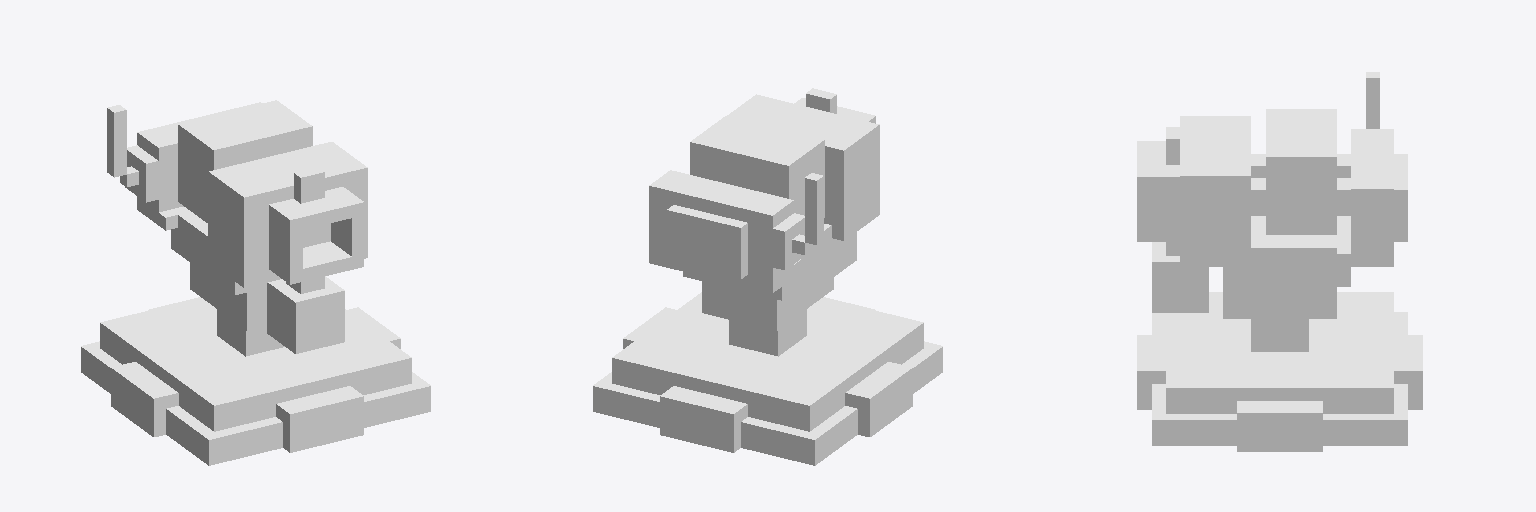
The model's file is Turret(Tower_Defens)-5.obj.
3 views of the same model, side by side, from view 1: azimuth 30°, elevation 25°; view 2: azimuth 150°, elevation 25°; view 3: azimuth 270°, elevation 25° (orthographic).
Parts seen in each view (by area): view 1: object 1; view 2: object 1; view 3: object 1.
Boxes of the visible parts, <box> form: object 1: <box>81,100,430,465</box>; object 1: <box>593,88,942,465</box>; object 1: <box>1137,72,1422,451</box>.
Bounding box in the file's own units: 2 × 2.1 × 2.